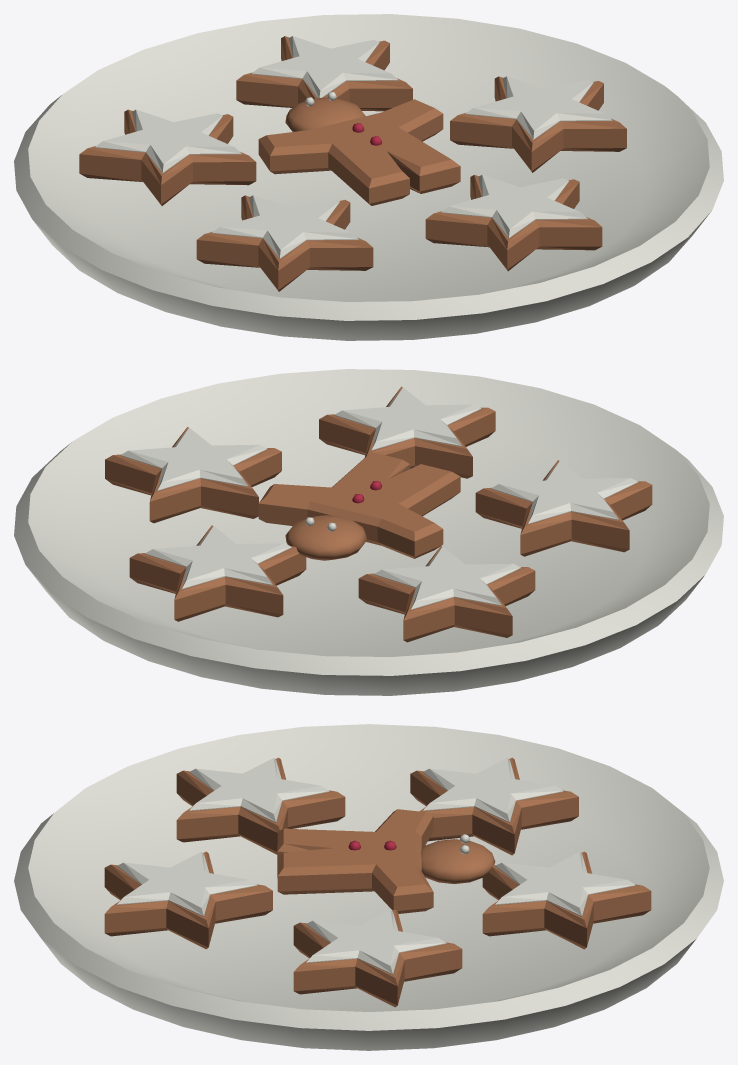
File: storybook-christmas-market-iced-cookie-platter-5e980012__19721.glb
The picture shows the model from 3 angles, top to bottom: view 1: azimuth 30°, elevation 25°; view 2: azimuth 150°, elevation 25°; view 3: azimuth 270°, elevation 25°; orthographic projection.
Parts seen in each view (by area): view 1: iced-cookie-platter; view 2: iced-cookie-platter; view 3: iced-cookie-platter.
Boxes of the visible parts, <box> form: iced-cookie-platter: <box>14,14,723,340</box>; iced-cookie-platter: <box>14,369,723,695</box>; iced-cookie-platter: <box>14,724,723,1050</box>.
Bounding box in the file's own units: 1 × 0.1431 × 1.
